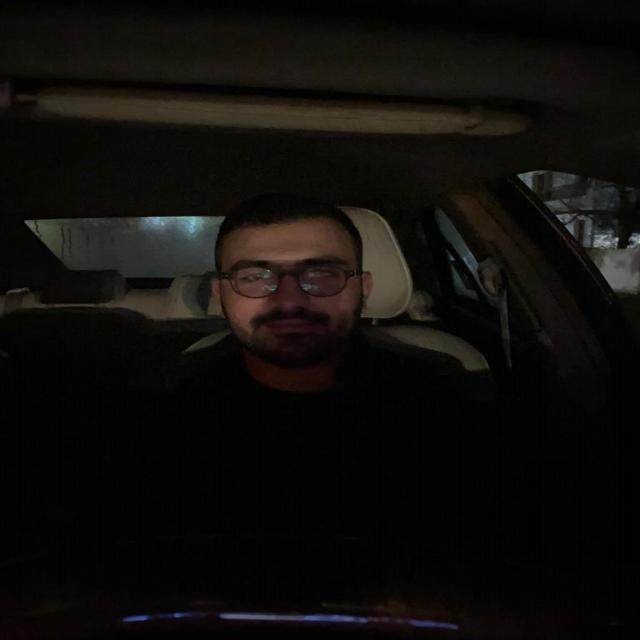person: (208, 182, 380, 372)
